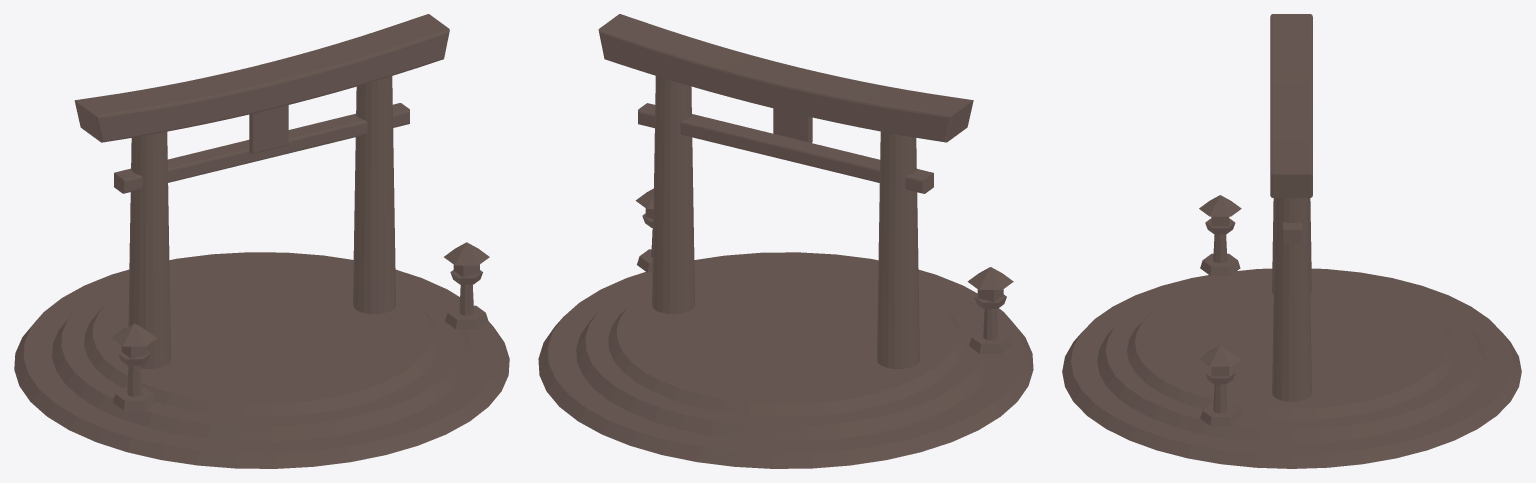
Rendered from portalGate.ol.glb.
3 views of the same model, side by side, from view 1: azimuth 30°, elevation 25°; view 2: azimuth 150°, elevation 25°; view 3: azimuth 270°, elevation 25° (orthographic). The views are drawn at different scales.
Bounding box in the file's own units: 16.04 × 10.69 × 16.04.
